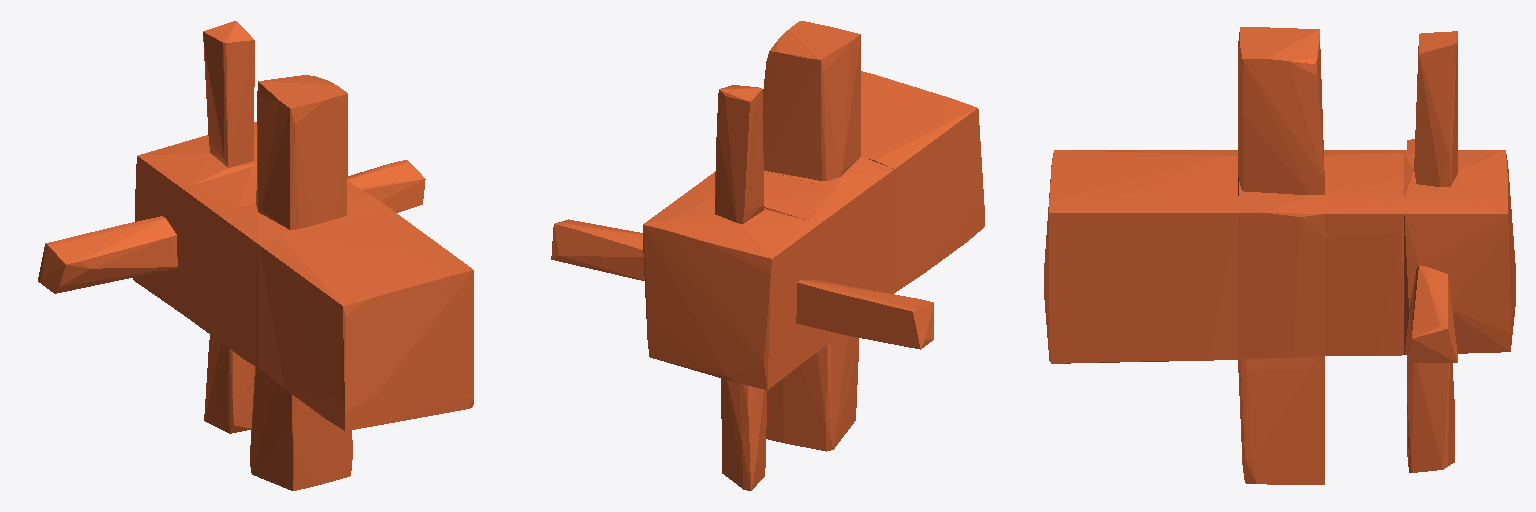
URDF robot description (blob428):
<robot name="blob428">
  <link name="random_obj_428">
    <contact>
      <lateral_friction value="1.0"/>
      <rolling_friction value="0.0"/>
      <inertia_scaling value="3.0"/>
      <contact_cfm value="0.0"/>
      <contact_erp value="1.0"/>
    </contact>
    <inertial>
      <origin rpy="0 0 0" xyz="0 0 0"/>
      <mass value="0.1"/>
      <inertia ixx="1" ixy="0" ixz="0" iyy="1" iyz="0" izz="0"/>
    </inertial>
    <visual>
      <origin rpy="0 0 0" xyz="0 0 0"/>
      <geometry>
        <mesh filename="428.obj" scale="0.015 0.015 0.015"/>
      </geometry>
      <material name="blockmat">
        <color rgba="0.93 0.46 0.26 1"/>
      </material>
    </visual>
    <collision>
      <origin rpy="0 0 0" xyz="0 0 0"/>
      <geometry>
        <mesh filename="428.obj" scale="0.015 0.015 0.015"/>
      </geometry>
    </collision>
  </link>
</robot>

--- Facts derived from the render (not from the file) ---
Views: 3 orthographic renders of the robot side by side, from view 1: azimuth 30°, elevation 25°; view 2: azimuth 150°, elevation 25°; view 3: azimuth 270°, elevation 25°.
Model blob428 with 1 links and 0 joints (none), rooted at random_obj_428, posed all joints at 0.
Visible links, largest first — view 1: random_obj_428; view 2: random_obj_428; view 3: random_obj_428.
Boxes of the visible links, <box> form: random_obj_428: <box>38,21,473,490</box>; random_obj_428: <box>551,21,984,490</box>; random_obj_428: <box>1044,27,1515,484</box>.
Size in the robot's own frame: 0.0915 by 0.092 by 0.0934 metres.
1 mesh visuals loaded from 1 distinct referenced files (1 OBJ).